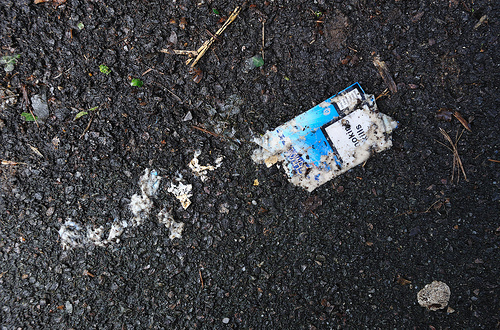litter: (253, 80, 394, 191)
